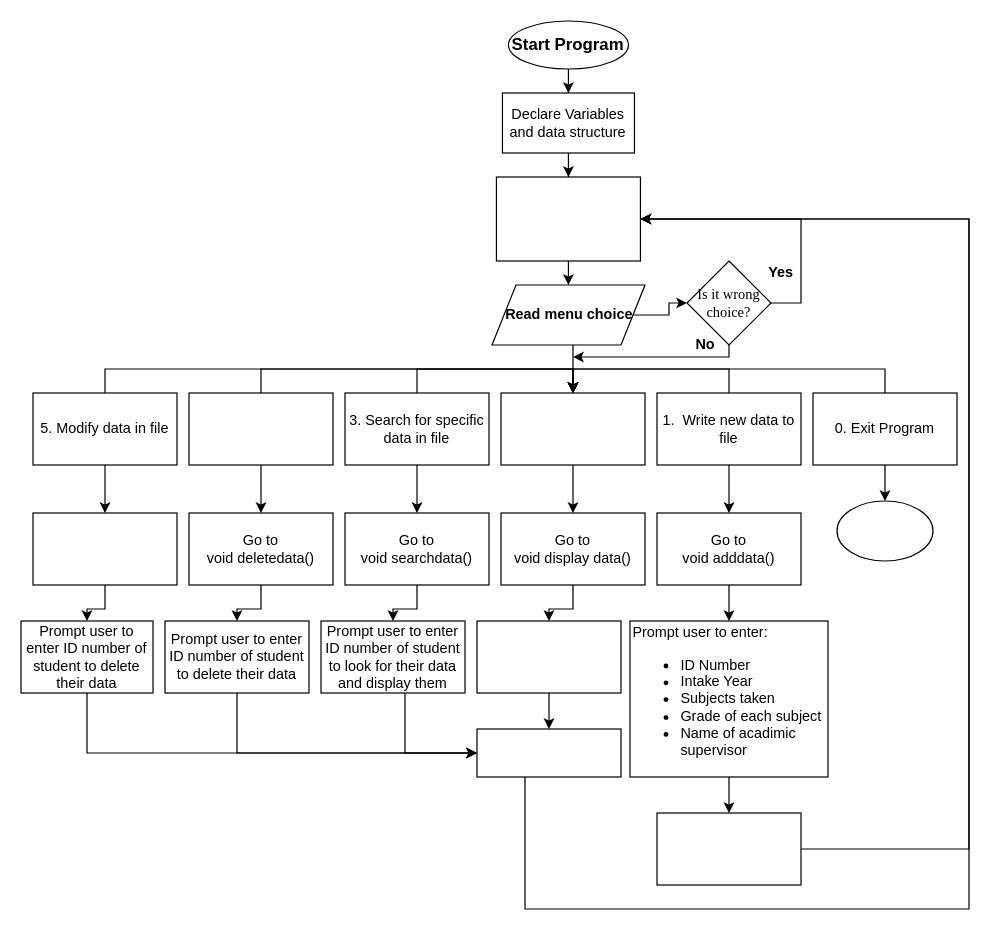
Some shapes in this 1000 by 940 pixel diagram are drawn without their labels. The centre of each missing label's shape, as x and y in pixels:
2. Read all data in file: the point at 572,428
4. Delete existing data from file: the point at 260,428
clean screen and go back to main menu: the point at 548,752
End Program: the point at 884,530
Go to void modifydata(): the point at 104,548
Open file Show all students registered: the point at 548,656
Show Menu switch case ( ) function And prompt user to choose: the point at 567,218
Store data into file clean screen and go back to main menu: the point at 728,848
